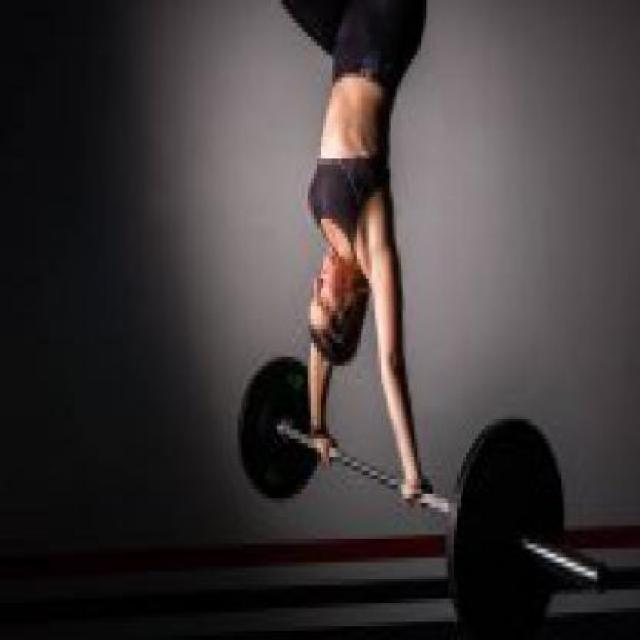Barbell: (590, 554, 622, 598)
